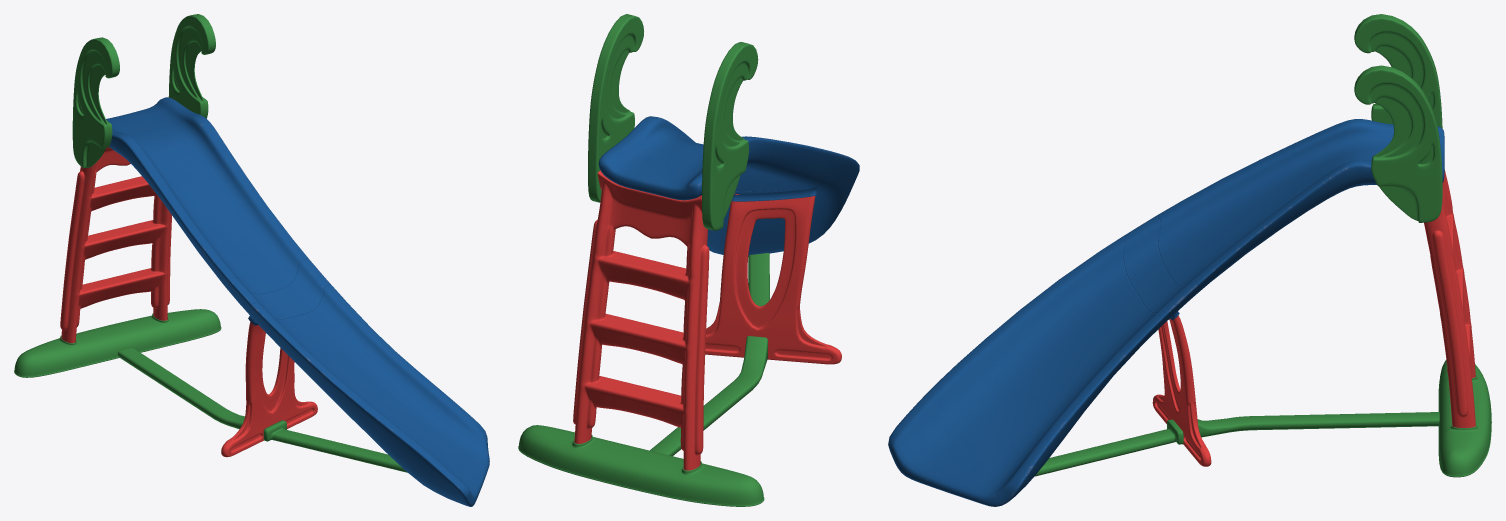
The picture shows the model from 3 angles, left to right: view 1: azimuth 30°, elevation 25°; view 2: azimuth 150°, elevation 25°; view 3: azimuth 270°, elevation 25°; orthographic projection. The views are drawn at different scales.
Visible parts, largest first — view 1: Kids_Slide; view 2: Kids_Slide; view 3: Kids_Slide.
Boxes of the visible parts, x1,y1,x2,y2 form: Kids_Slide: (14,14,489,506); Kids_Slide: (518,14,859,506); Kids_Slide: (888,14,1491,506).
Size of the model in its own units: 1.01 by 1.25 by 1.79.
1 material, 1 textured.
